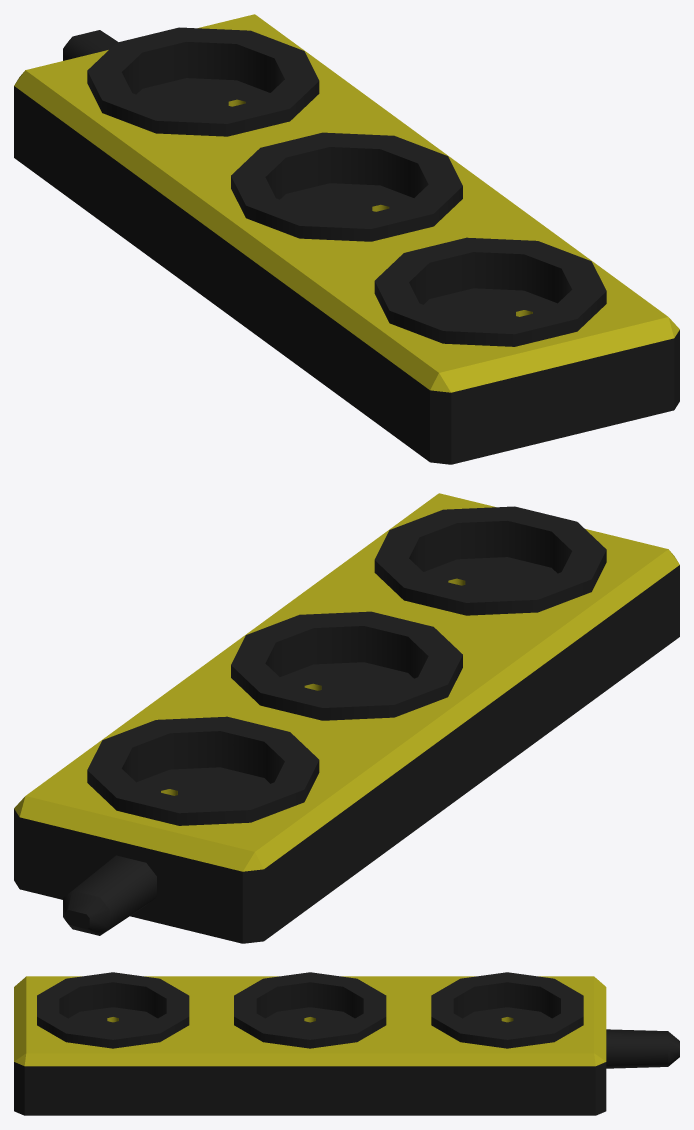
Rendered from extension_cord.fbx.
The picture shows the model from 3 angles, top to bottom: view 1: azimuth 30°, elevation 25°; view 2: azimuth 150°, elevation 25°; view 3: azimuth 270°, elevation 25°; orthographic projection. The views are drawn at different scales.
Parts seen in each view (by area): view 1: extension_cord; view 2: extension_cord; view 3: extension_cord.
Part boxes in pixels (x1=…): extension_cord: x1=14, y1=14, x2=679, y2=464; extension_cord: x1=14, y1=493, x2=679, y2=943; extension_cord: x1=14, y1=972, x2=679, y2=1115.
Size of the model in its own units: 0.0703 by 0.2364 by 0.0266.
